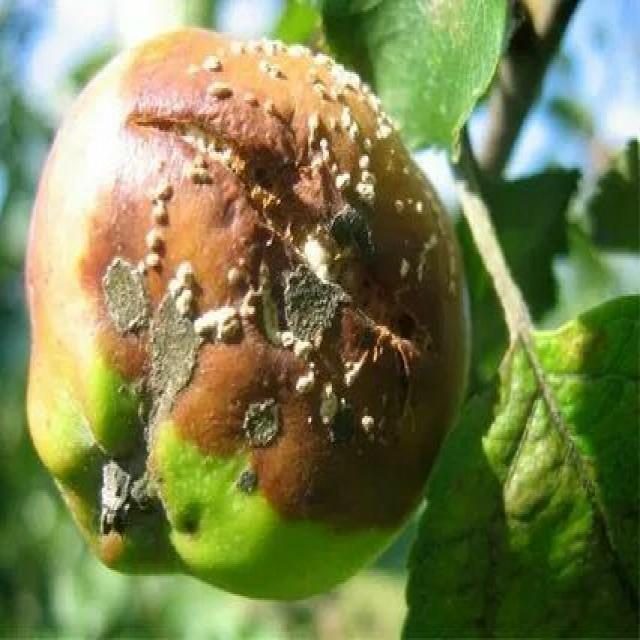Rotten: (55, 40, 458, 590)
